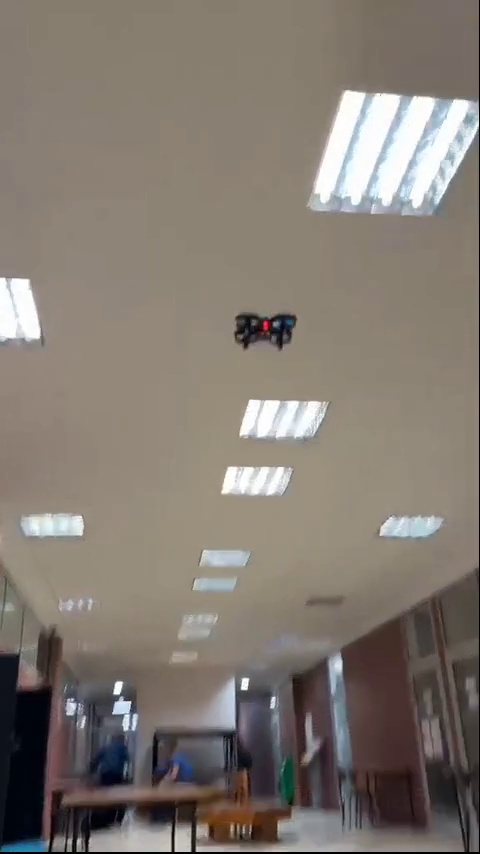drone: (233, 311, 291, 353)
no vest: (159, 736, 206, 785), (92, 731, 132, 779)
